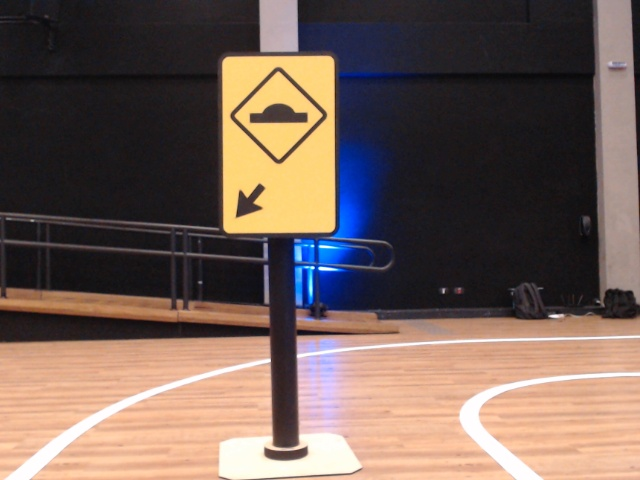PLACA_LOMBADA: (209, 38, 346, 244)
